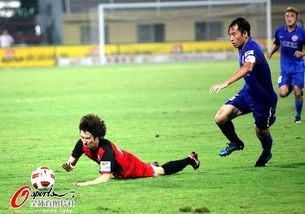falling: (60, 111, 204, 186)
